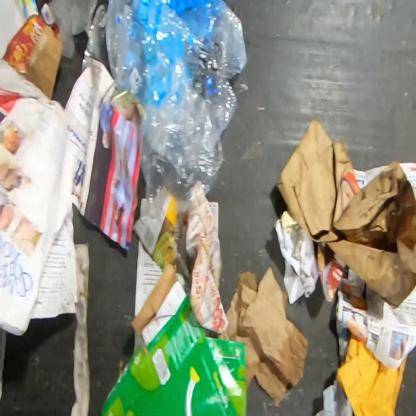cardboard: (98, 260, 249, 415), (1, 2, 65, 101)
soft_plastic: (80, 0, 250, 223), (48, 0, 100, 61)
